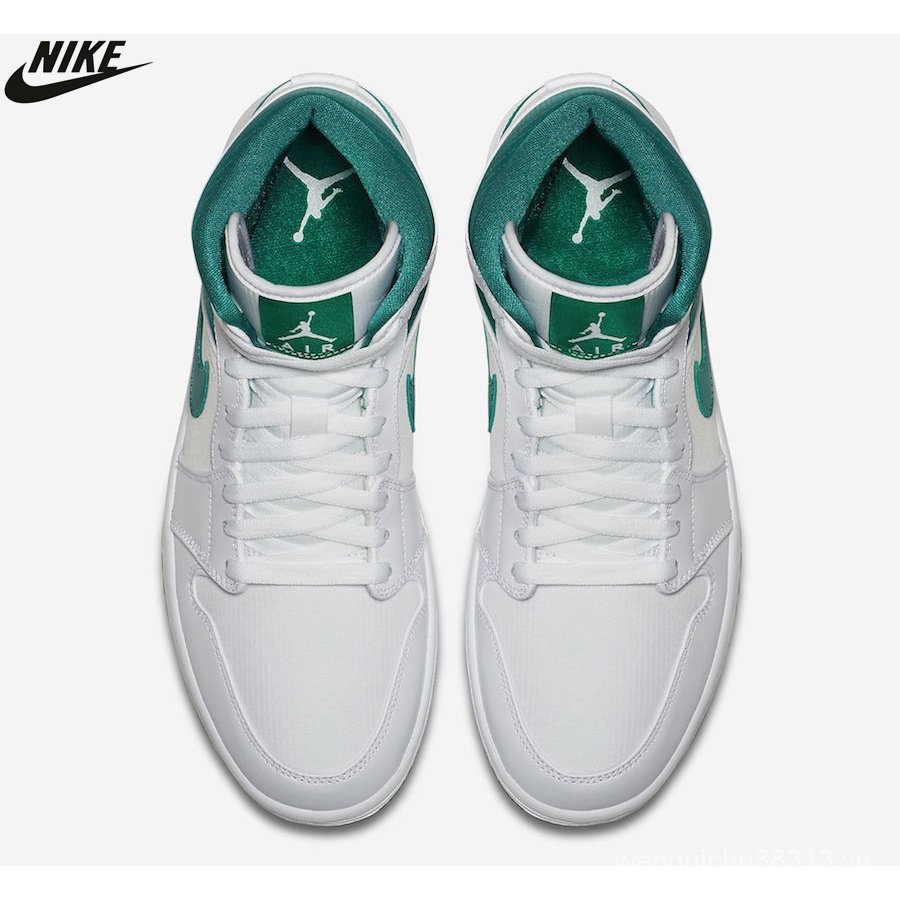sneakers: (460, 73, 745, 830), (159, 74, 443, 830)
